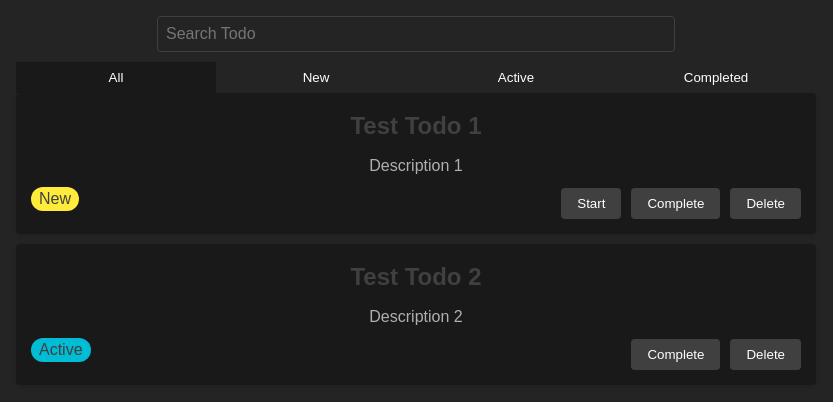
Test: TodoList Page › searches todos based on input
This screenshot has width=833, height=402.
Expected: the heading "Test Todo 1" is shown, left=350, top=112, right=482, bottom=139
Type "Test Todo 2" into the field with placeholder "Search Todo" at (416, 34), box left=157, top=16, right=675, bottom=52
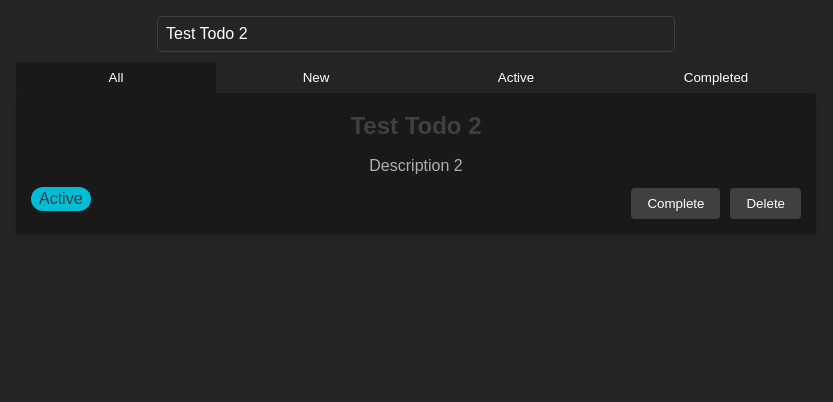
Expected: the heading "Test Todo 2" is shown, left=350, top=112, right=482, bottom=139
Result: the heading "Test Todo 1" is gone
